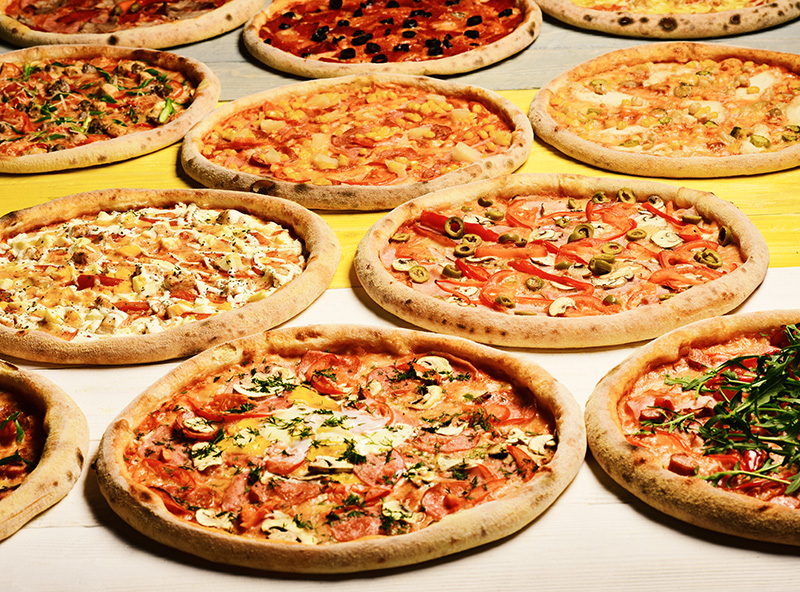Pizza: (88, 320, 590, 576), (354, 172, 771, 352), (1, 184, 341, 367), (584, 307, 800, 548), (179, 71, 536, 213), (528, 38, 800, 179), (1, 40, 222, 175), (239, 1, 544, 78), (1, 358, 86, 543), (1, 1, 267, 50), (536, 1, 799, 38)
